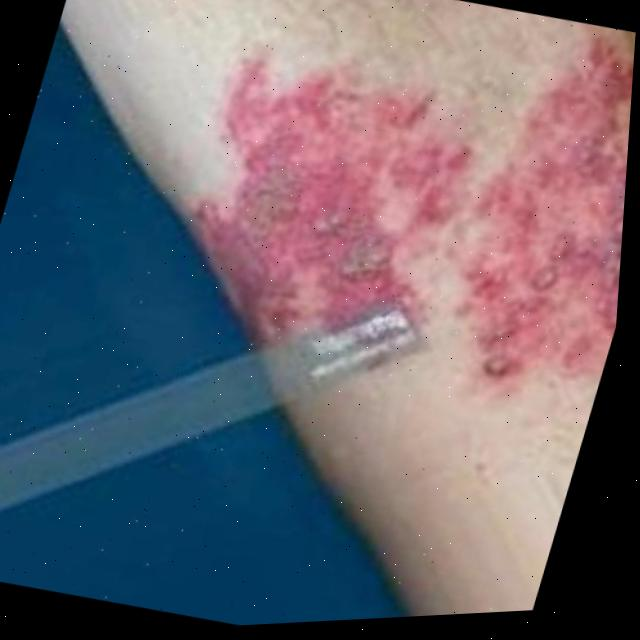Shingles: (127, 0, 640, 413)
